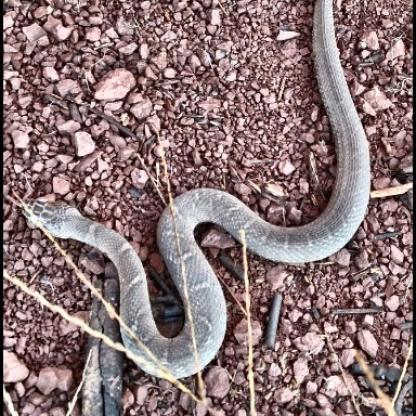Snake: (28, 22, 376, 384)
